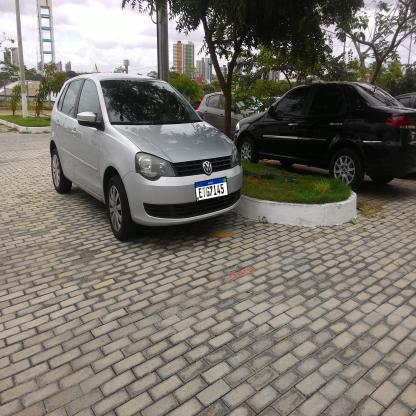PlacaM: (194, 176, 228, 202)
